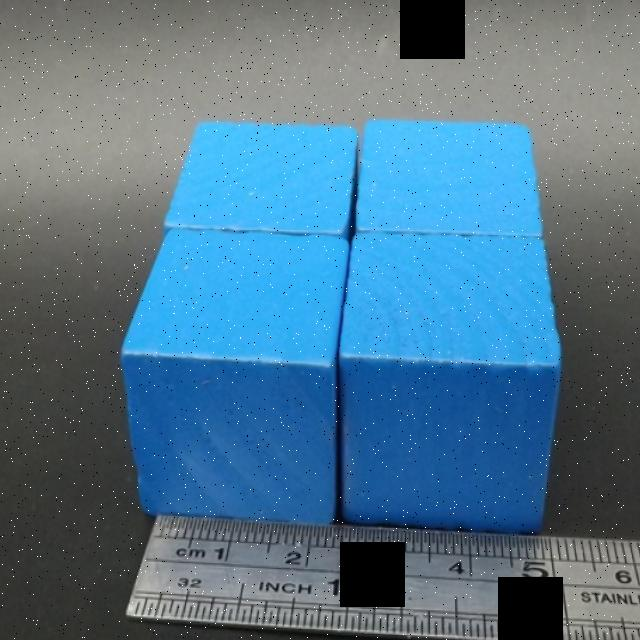bluecube: (122, 228, 349, 527), (341, 233, 561, 535), (161, 120, 358, 240), (356, 118, 544, 238)
